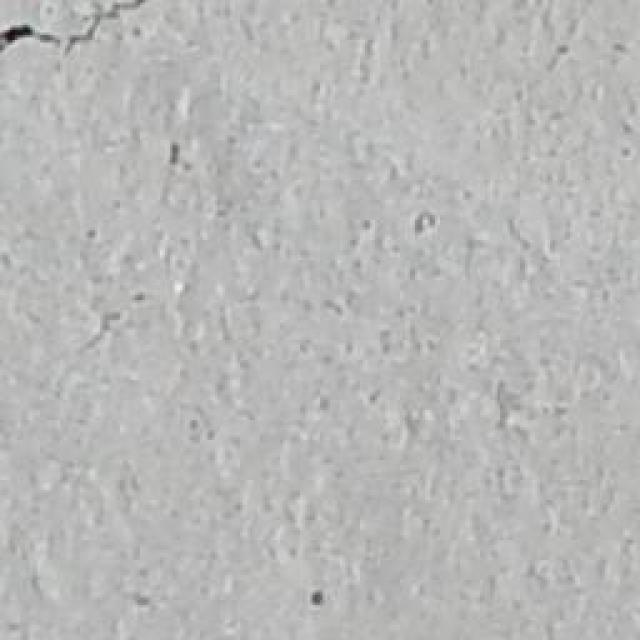concrete-crack: (0, 0, 159, 62)
